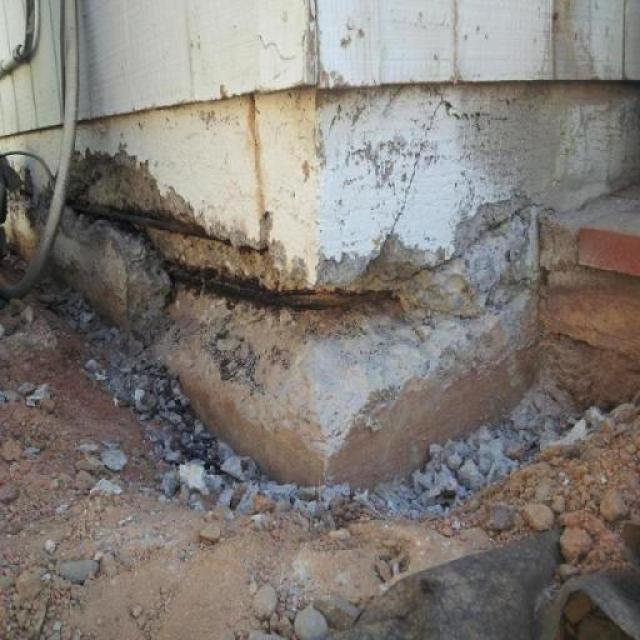D0w0: (0, 159, 530, 381)
